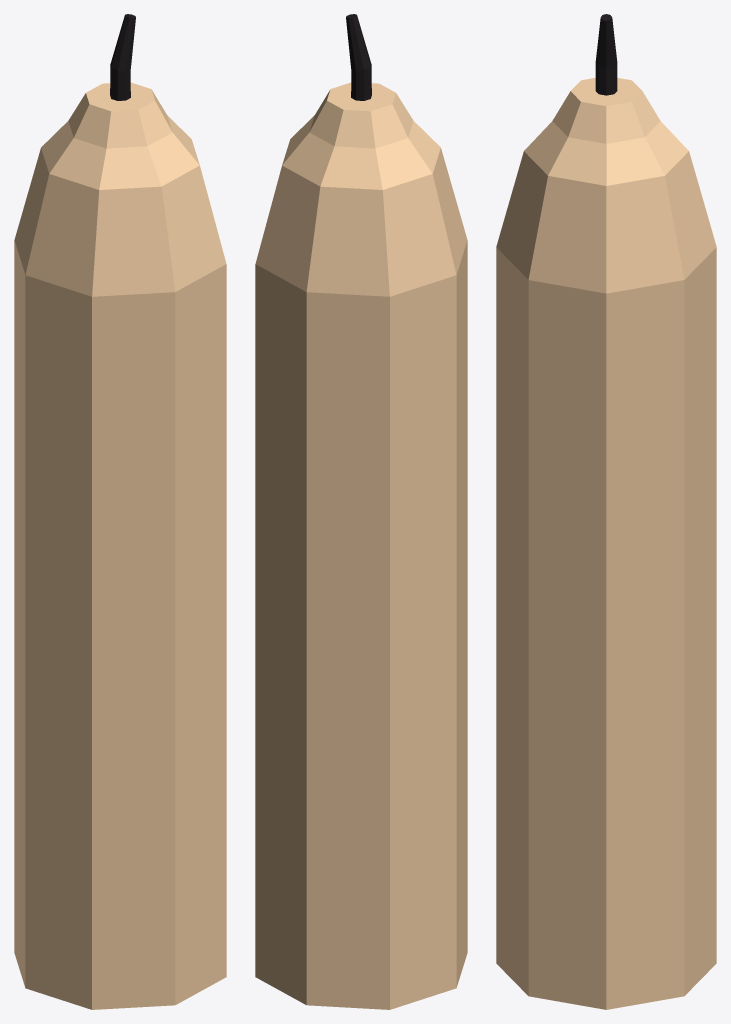
File: BasicCandle.fbx
3 renders of one model, left to right at view 1: azimuth 30°, elevation 25°; view 2: azimuth 150°, elevation 25°; view 3: azimuth 270°, elevation 25°, orthographic.
Parts seen in each view (by area): view 1: Candle; view 2: Candle; view 3: Candle.
Part boxes in pixels (bbox=[...]): Candle: bbox=[14, 14, 226, 1009]; Candle: bbox=[255, 14, 467, 1009]; Candle: bbox=[496, 14, 716, 1009].
Bounding box in the file's own units: 3.66 × 17.44 × 3.66.
